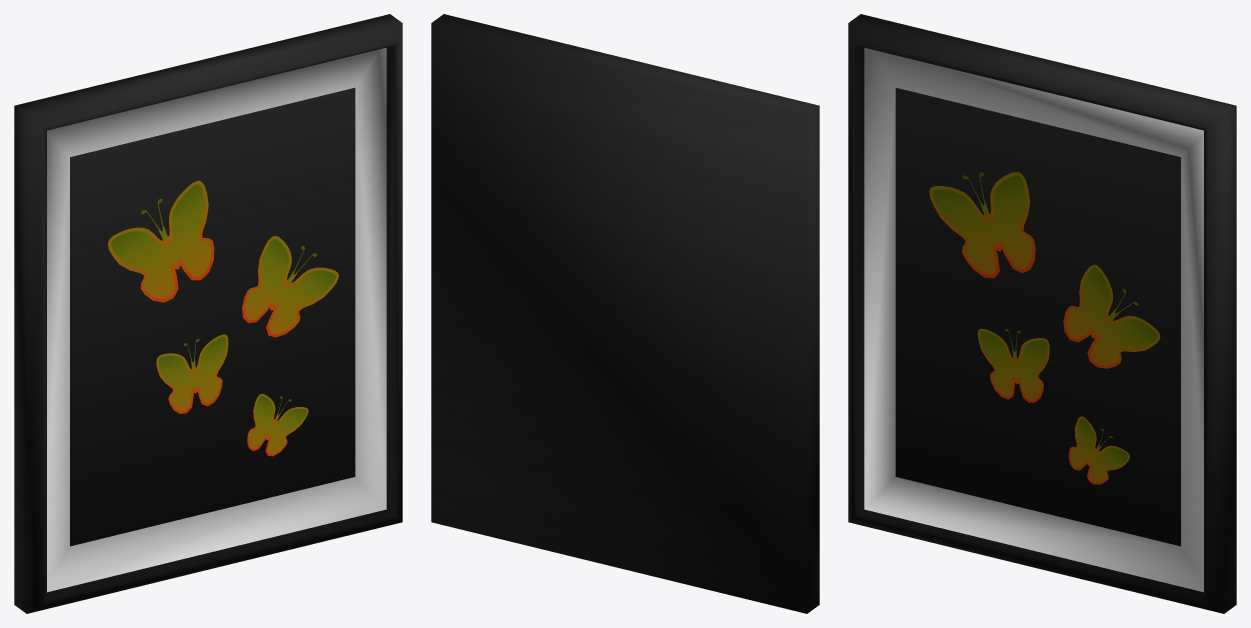
Rendered from SM_picture_3.fbx.
The picture shows the model from 3 angles, left to right: view 1: azimuth 30°, elevation 25°; view 2: azimuth 150°, elevation 25°; view 3: azimuth 330°, elevation 25°; orthographic projection.
Visible parts, largest first — view 1: SM_picture_3; view 2: SM_picture_3; view 3: SM_picture_3.
Part boxes in pixels (x1,y1,x2,y2): SM_picture_3: (14, 14, 402, 613); SM_picture_3: (431, 14, 819, 613); SM_picture_3: (848, 14, 1236, 613).
Bounding box in the file's own units: 114 × 145 × 9.83.
Materials: 1 (1 with a texture image).
